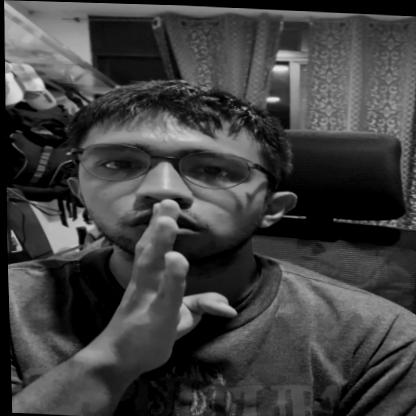Talk: (49, 67, 344, 378)
